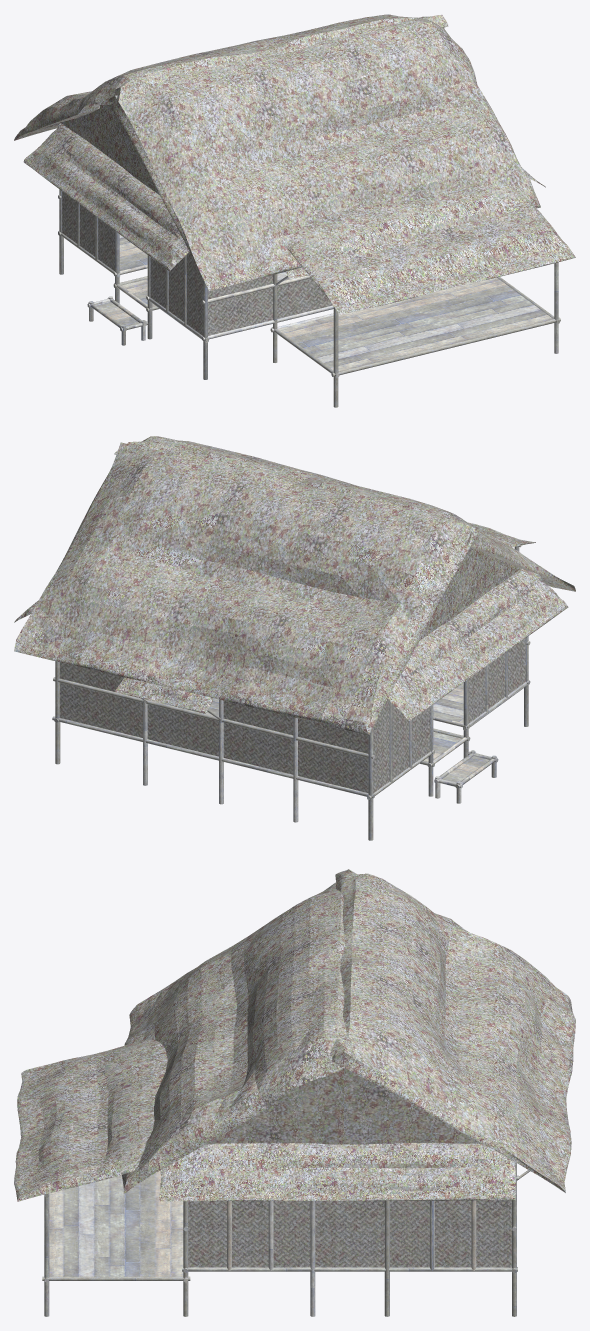
The picture shows the model from 3 angles, top to bottom: view 1: azimuth 30°, elevation 25°; view 2: azimuth 150°, elevation 25°; view 3: azimuth 270°, elevation 25°; orthographic projection. The views are drawn at different scales.
Visible parts, largest first — view 1: Meshpart6, Meshpart4, Part94, Meshpart5, Meshpart3, Part161, Part156, Part128, Part127, Wedge1, Part41, Part40 (+10 smaller); view 2: Meshpart3, Meshpart5, Part2, Part1, Meshpart6, Part41, Part40, Part11, Part10, Wedge4, Part128, Part127 (+11 smaller); view 3: Meshpart3, Meshpart6, Part88, Part83, Meshpart2, Meshpart4, Part94, Wedge3, Wedge2, Union2, Part90, Part60 (+5 smaller).
Part boxes in pixels (bbox=[...]): Meshpart6: bbox=[109, 15, 540, 290]; Meshpart4: bbox=[287, 185, 575, 314]; Part94: bbox=[278, 277, 552, 371]; Meshpart5: bbox=[23, 123, 189, 271]; Meshpart3: bbox=[14, 14, 448, 140]; Part161: bbox=[208, 278, 332, 335]; Part156: bbox=[208, 278, 332, 335]; Part128: bbox=[150, 252, 203, 335]; Part127: bbox=[150, 252, 203, 335]; Wedge1: bbox=[58, 104, 131, 174]; Part41: bbox=[62, 191, 114, 271]; Part40: bbox=[62, 192, 114, 270]; Meshpart3: bbox=[14, 442, 478, 735]; Meshpart5: bbox=[387, 568, 568, 721]; Part2: bbox=[59, 683, 368, 792]; Part1: bbox=[60, 683, 368, 792]; Meshpart6: bbox=[114, 436, 575, 591]; Part41: bbox=[373, 700, 430, 793]; Part40: bbox=[373, 700, 430, 792]; Part11: bbox=[223, 701, 368, 753]; Part10: bbox=[223, 701, 368, 753]; Wedge4: bbox=[446, 547, 521, 621]; Part128: bbox=[468, 638, 525, 723]; Part127: bbox=[468, 638, 525, 722]; Meshpart3: bbox=[332, 869, 575, 1192]; Meshpart6: bbox=[122, 882, 355, 1193]; Part88: bbox=[188, 1200, 511, 1267]; Part83: bbox=[188, 1200, 511, 1267]; Meshpart2: bbox=[158, 1143, 515, 1201]; Meshpart4: bbox=[14, 1039, 167, 1201]; Part94: bbox=[49, 1170, 183, 1276]; Wedge3: bbox=[206, 1068, 343, 1144]; Wedge2: bbox=[344, 1068, 481, 1144]; Union2: bbox=[227, 1200, 476, 1270]; Part90: bbox=[182, 1267, 517, 1271]; Part60: bbox=[44, 1193, 49, 1316].
Bounding box in the file's own units: 31.76 × 20.48 × 36.67.
Materials: 5 (5 with a texture image).
